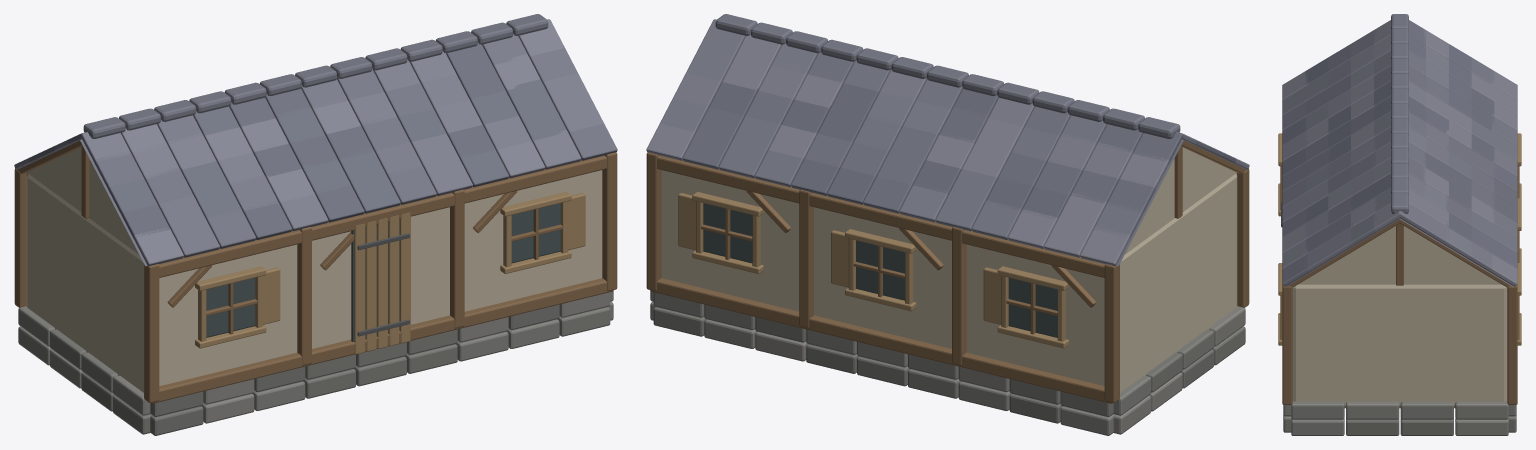
File: c01_row_4x2.glb
The picture shows the model from 3 angles, left to right: view 1: azimuth 30°, elevation 25°; view 2: azimuth 150°, elevation 25°; view 3: azimuth 270°, elevation 25°; orthographic projection. The views are drawn at different scales.
Parts seen in each view (by area): view 1: Walls, Roof; view 2: Walls, Roof; view 3: Roof, Walls.
Boxes of the visible parts, box(x1,y1,x2,y2) form: Walls: box(14, 139, 617, 435); Roof: box(14, 14, 617, 266); Walls: box(646, 139, 1249, 435); Roof: box(646, 14, 1249, 266); Roof: box(1282, 14, 1517, 287); Walls: box(1278, 133, 1521, 435).
Bounding box in the file's own units: 3.78 × 2 × 1.94.
Materials: 1 (1 with a texture image).
